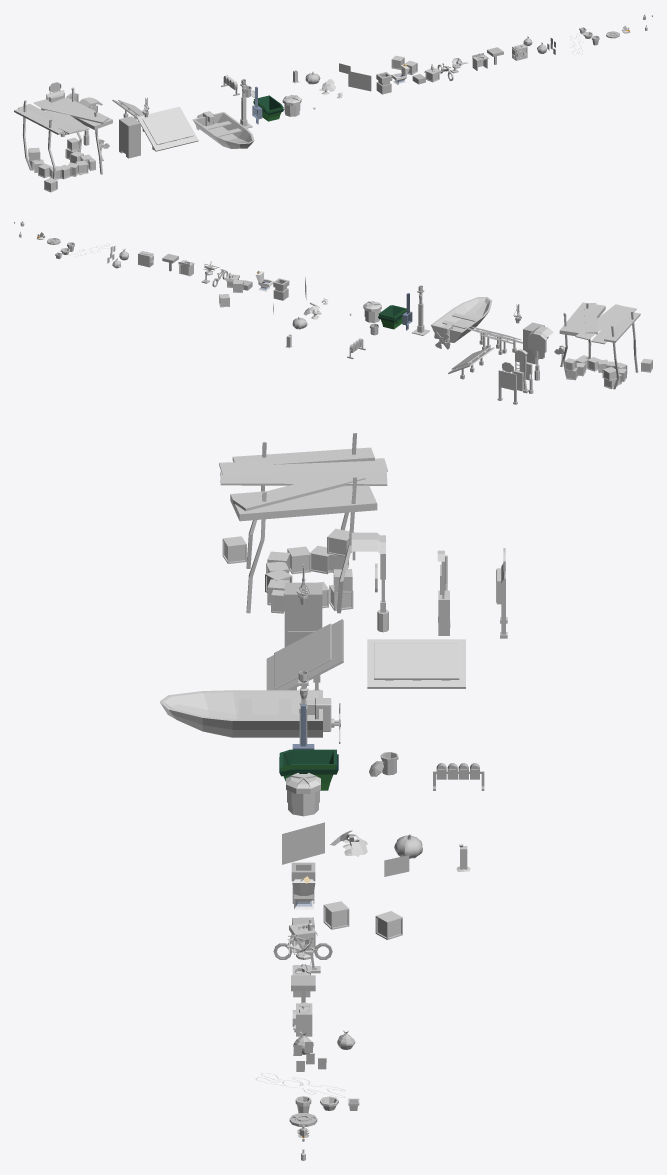
File: modelosGerais.fbx
3 renders of one model, top to bottom at view 1: azimuth 30°, elevation 25°; view 2: azimuth 150°, elevation 25°; view 3: azimuth 270°, elevation 25°, orthographic. The views are drawn at different scales.
Visible parts, largest first — view 1: bancada, painel_grande, barco, máquina, cacamba, arbusto_Medio, caixadagua, CHAMINE, placa, placa.002, PAINEL_GRANDE, poste.001; view 2: bancada, barco, placa, placa.001, placa.002, cacamba, painel_grande, PAINEL_GRANDE, máquina, caixadagua, poste.001, CHAMINE; view 3: bancada, barco, PAINEL_GRANDE, painel_grande, máquina, cacamba, placa, arbusto_Medio, caixadagua.
Boxes of the visible parts, left/top/right/bottom form: bancada: left=14, top=87, right=112, bottom=192; painel_grande: left=136, top=106, right=198, bottom=151; barco: left=192, top=111, right=254, bottom=148; máquina: left=119, top=116, right=140, bottom=158; cacamba: left=253, top=95, right=283, bottom=121; arbusto_Medio: left=348, top=71, right=371, bottom=91; caixadagua: left=282, top=95, right=301, bottom=116; CHAMINE: left=376, top=72, right=392, bottom=94; placa: left=78, top=97, right=102, bottom=145; placa.002: left=46, top=82, right=64, bottom=102; PAINEL_GRANDE: left=112, top=100, right=144, bottom=131; poste.001: left=240, top=79, right=252, bottom=128; bancada: left=559, top=302, right=652, bottom=389; barco: left=431, top=297, right=492, bottom=349; placa: left=528, top=326, right=553, bottom=380; placa.001: left=513, top=349, right=533, bottom=393; placa.002: left=497, top=362, right=517, bottom=404; cacamba: left=378, top=305, right=406, bottom=329; painel_grande: left=464, top=326, right=522, bottom=354; PAINEL_GRANDE: left=448, top=347, right=494, bottom=379; máquina: left=523, top=322, right=544, bottom=364; caixadagua: left=363, top=301, right=381, bottom=322; poste.001: left=412, top=285, right=429, bottom=335; CHAMINE: left=273, top=278, right=289, bottom=300; bancada: left=219, top=433, right=387, bottom=613; barco: left=159, top=690, right=340, bottom=743; PAINEL_GRANDE: left=367, top=639, right=465, bottom=688; painel_grande: left=266, top=619, right=343, bottom=690; máquina: left=284, top=582, right=322, bottom=646; cacamba: left=279, top=749, right=338, bottom=790; placa: left=351, top=532, right=388, bottom=632; arbusto_Medio: left=282, top=822, right=324, bottom=864; caixadagua: left=286, top=772, right=320, bottom=816.
Bounding box in the file's own units: 4902 × 565 × 1190.
